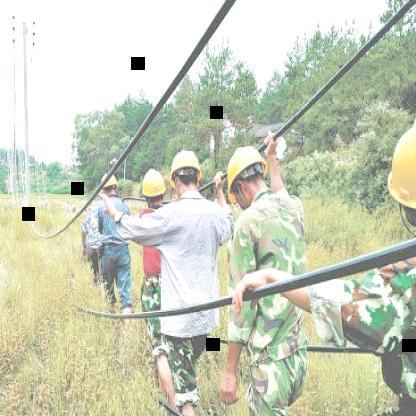helmet: (221, 140, 272, 210), (391, 107, 416, 238), (167, 147, 203, 201), (141, 168, 166, 210), (96, 165, 122, 202)
